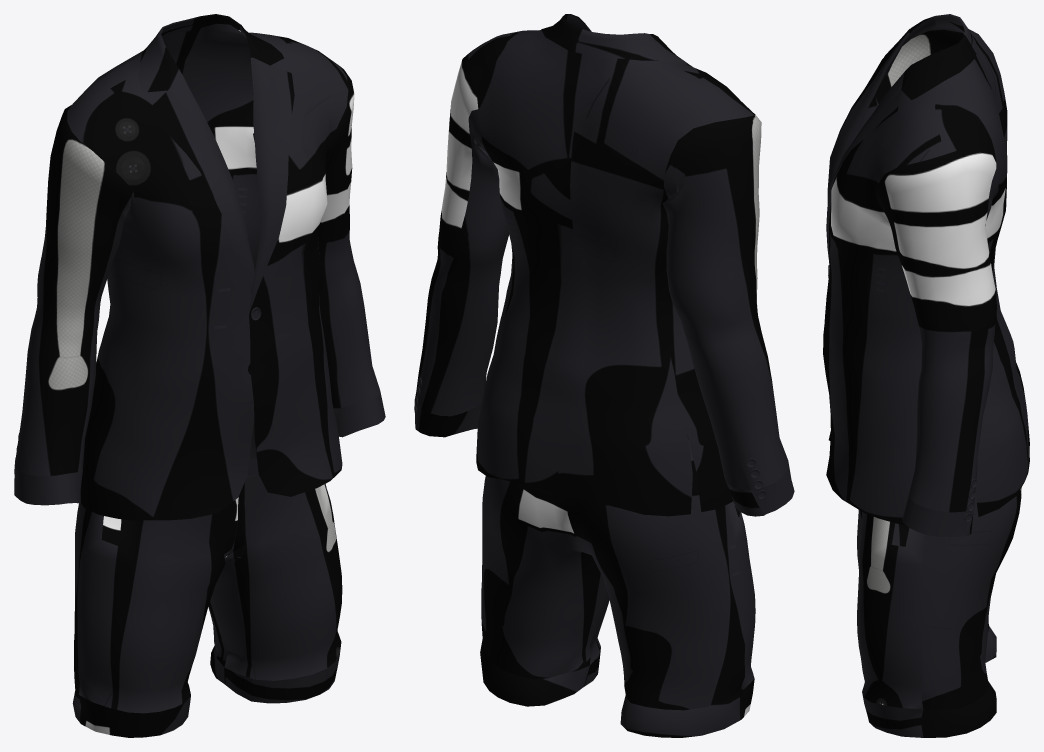
File: blazer_material_shorts.glb
The picture shows the model from 3 angles, left to right: view 1: azimuth 30°, elevation 25°; view 2: azimuth 150°, elevation 25°; view 3: azimuth 270°, elevation 25°; orthographic projection. The views are drawn at different scales.
Visible parts, largest first — view 1: all, all_two; view 2: all, all_two; view 3: all, all_two.
Boxes of the visible parts, box(x1,y1,x2,y2) form: all: box(14, 14, 385, 520); all_two: box(72, 423, 342, 737); all: box(414, 14, 794, 516); all_two: box(480, 436, 755, 737); all: box(823, 14, 1029, 536); all_two: box(857, 487, 1021, 737).
Size of the model in its own units: 0.3223 by 0.5719 by 0.1639.
Materials: 2 (2 with a texture image).
